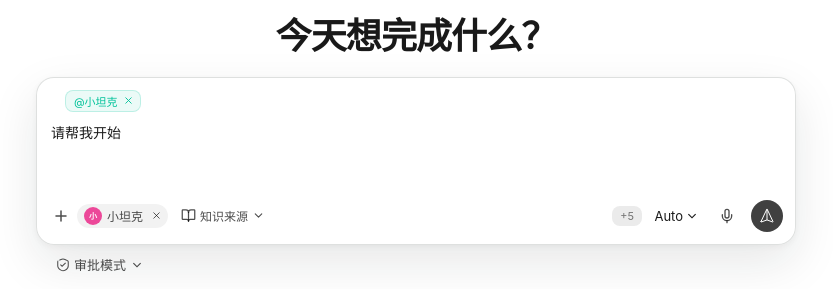
Scenario: HomePage › 点击移除按钮清空 pending 专家,且不破坏输入框中的预填文字
This screenshot has width=833, height=289.
Expected: the text box holds "请帮我开始", [49, 118, 783, 188]
Click the button named "移除已选专家" next to "@小坦克": (129, 100) [122, 94, 136, 108]
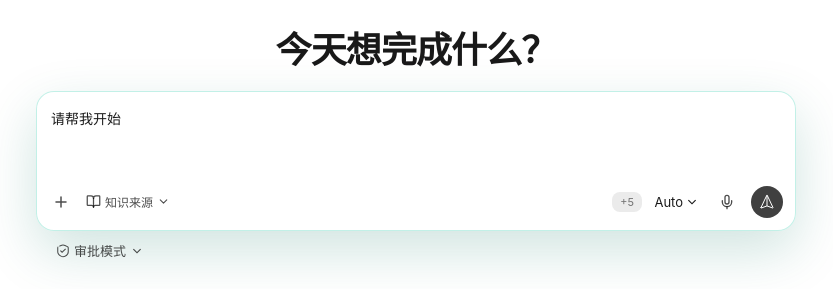
Expected: the text box holds "请帮我开始", [49, 104, 783, 174]
Expected: the button "移除已选专家" is gone
